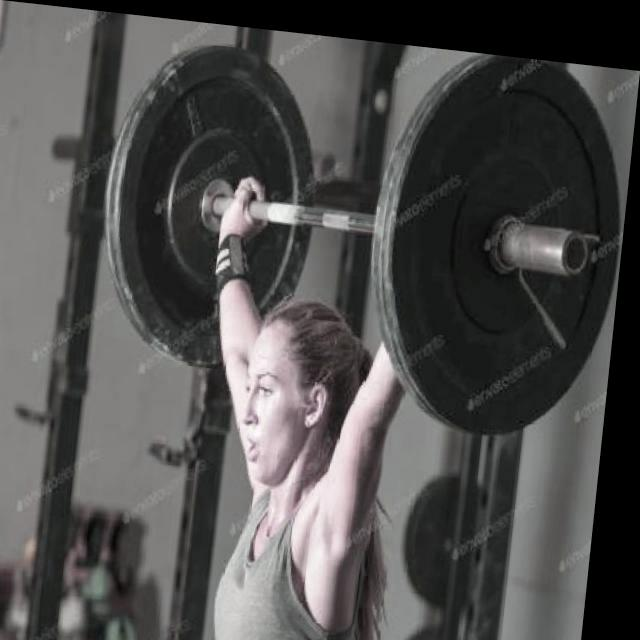barbell: (369, 35, 640, 440)
